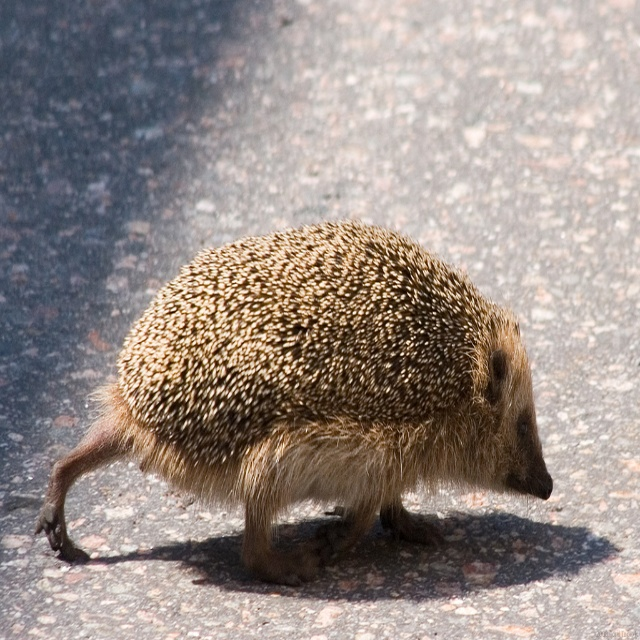Hedgehog: (36, 212, 553, 583)
